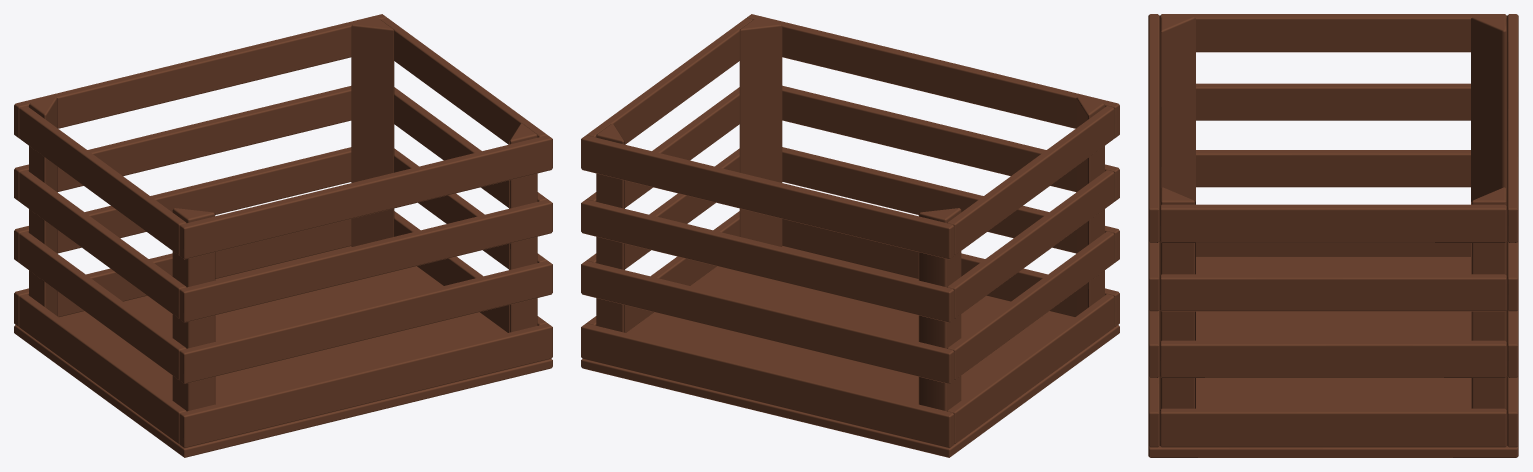
File: Crate.fbx
3 renders of one model, left to right at view 1: azimuth 30°, elevation 25°; view 2: azimuth 150°, elevation 25°; view 3: azimuth 270°, elevation 25°, orthographic. The views are drawn at different scales.
Visible parts, largest first — view 1: Crate_3m39yz; view 2: Crate_3m39yz; view 3: Crate_3m39yz.
Part boxes in pixels (x1,y1,x2,y2): Crate_3m39yz: (14,14,552,457); Crate_3m39yz: (581,14,1119,457); Crate_3m39yz: (1148,14,1518,457).
Size of the model in its own units: 35 by 21.07 by 28.
